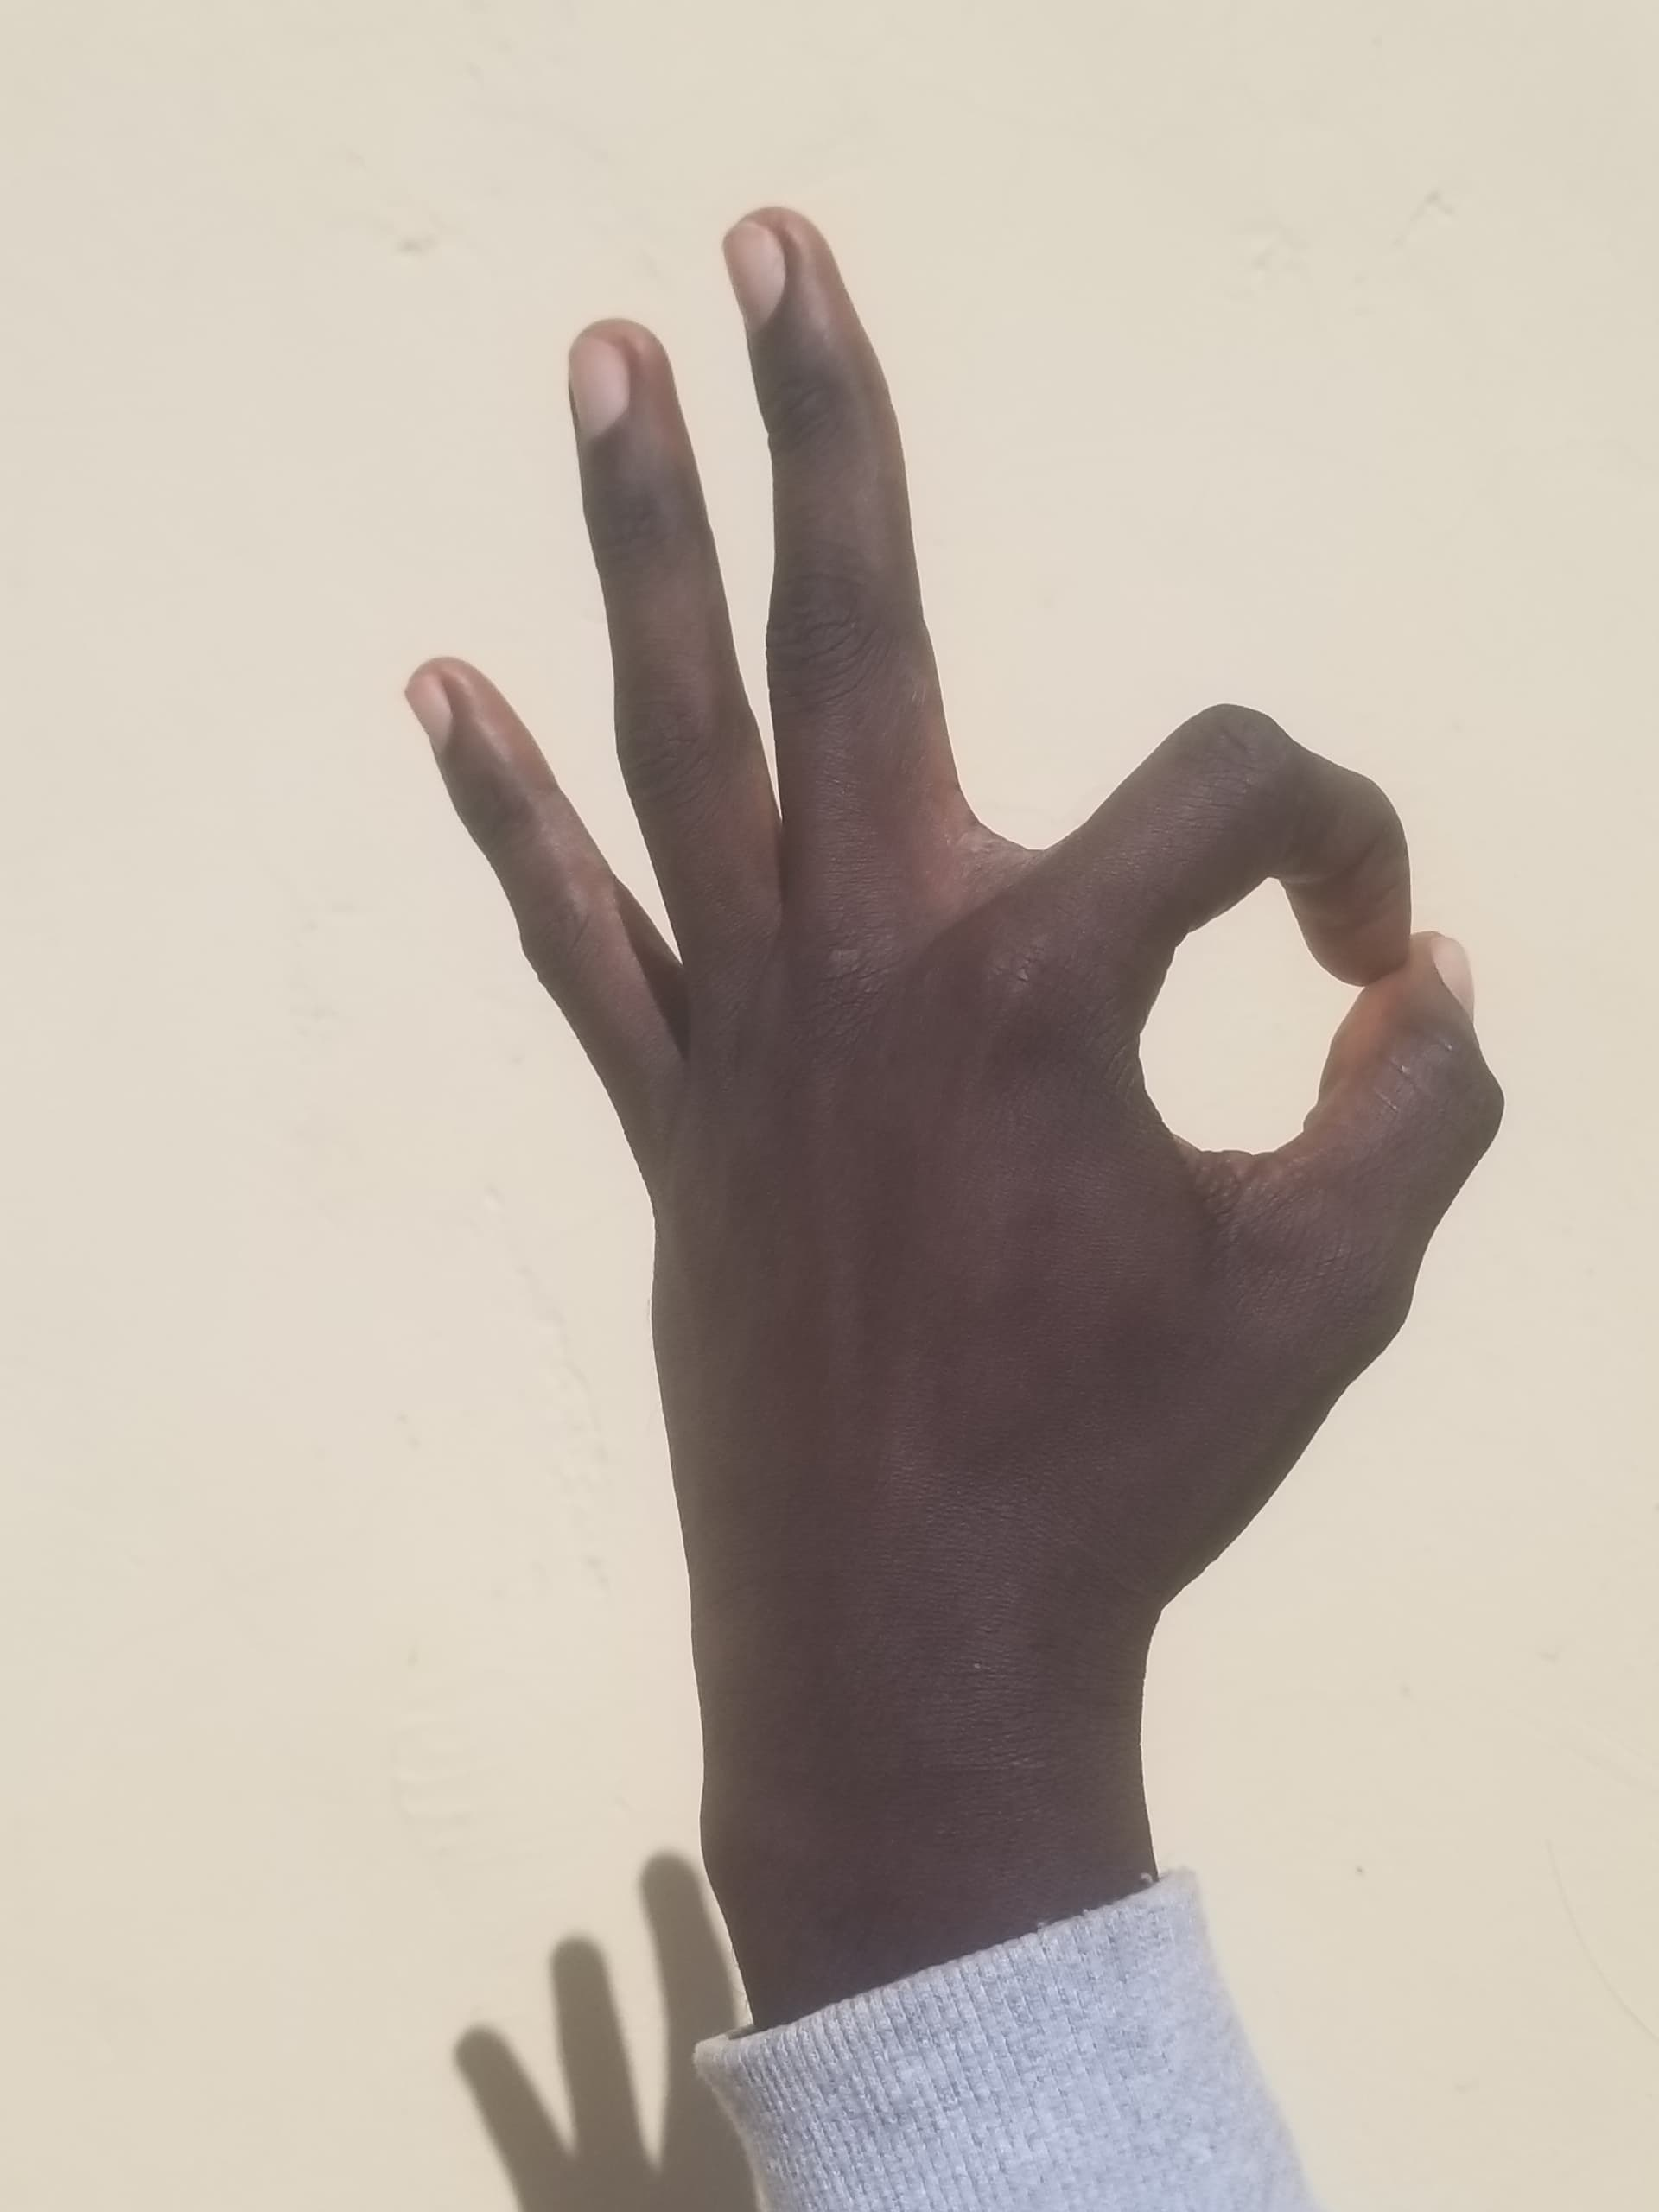okay: (284, 150, 1575, 1777)
